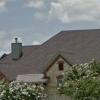Chimney: (7, 33, 25, 61)
